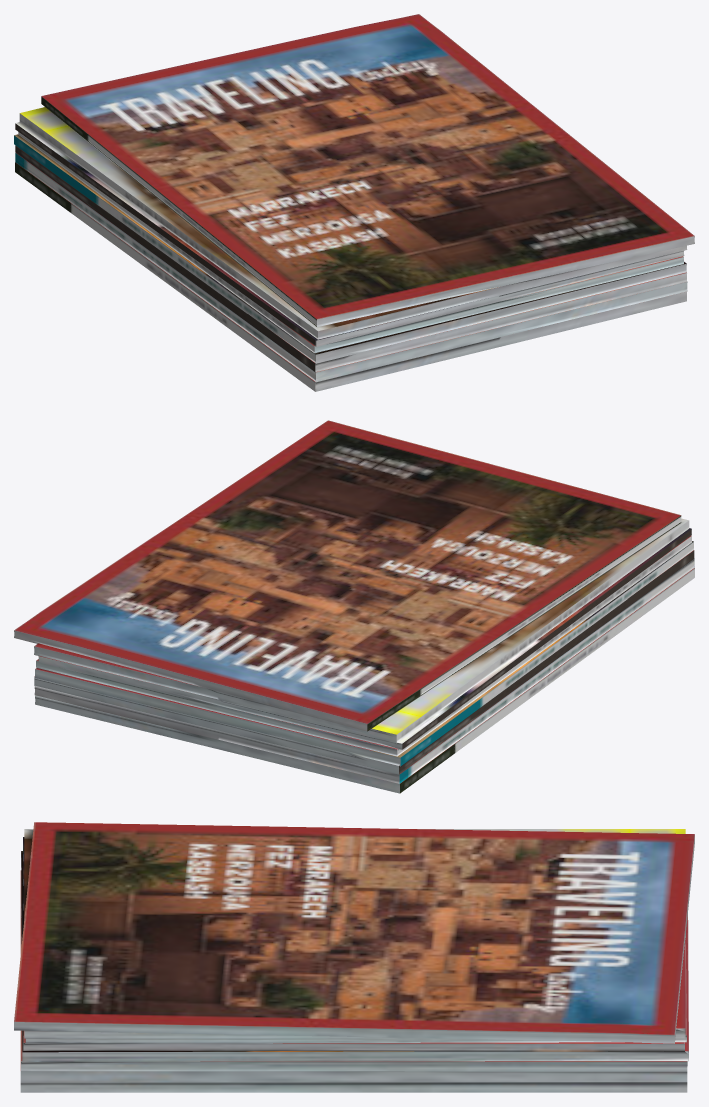
The model's file is sweethome3d-scopia-magazines-pile.glb.
3 views of the same model, one above another, from view 1: azimuth 30°, elevation 25°; view 2: azimuth 150°, elevation 25°; view 3: azimuth 270°, elevation 25° (orthographic). The views are drawn at different scales.
Visible parts, largest first — view 1: Revue_Cube.001; view 2: Revue_Cube.001; view 3: Revue_Cube.001.
Boxes of the visible parts, bbox=[...] form: Revue_Cube.001: bbox=[14, 14, 694, 391]; Revue_Cube.001: bbox=[14, 420, 694, 793]; Revue_Cube.001: bbox=[14, 822, 694, 1092].
Size of the model in its own units: 21.5 by 3.4 by 28.61.
1 material, 1 textured.
